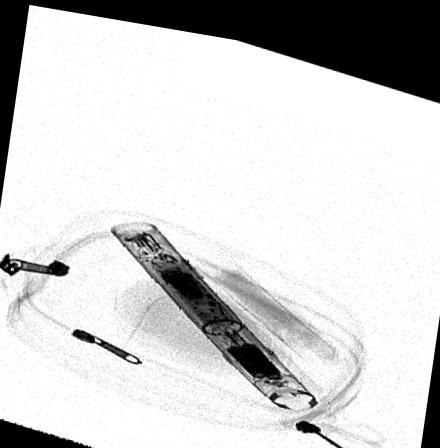Baton: (108, 215, 318, 402)
